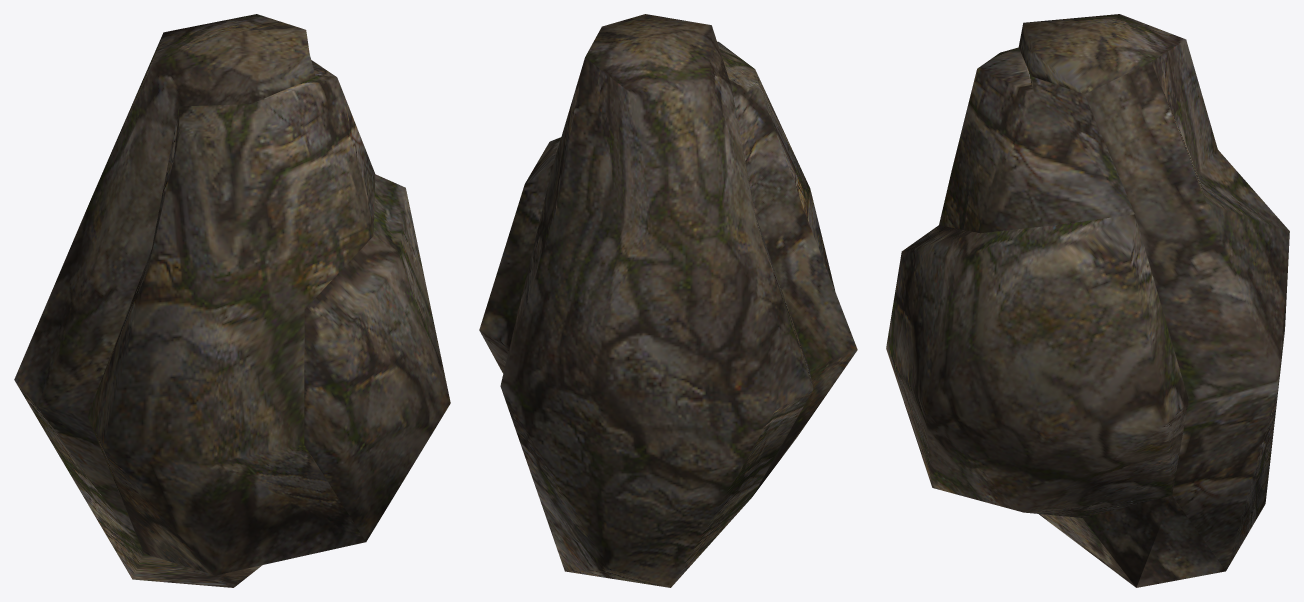
File: Rock05.FBX
3 renders of one model, left to right at view 1: azimuth 30°, elevation 25°; view 2: azimuth 150°, elevation 25°; view 3: azimuth 270°, elevation 25°, orthographic. The views are drawn at different scales.
Visible parts, largest first — view 1: Rock05; view 2: Rock05; view 3: Rock05.
Part boxes in pixels (x1,y1,x2,y2): Rock05: (14, 14, 450, 587); Rock05: (479, 14, 857, 587); Rock05: (886, 14, 1289, 587).
Bounding box in the file's own units: 234 × 354 × 234.
